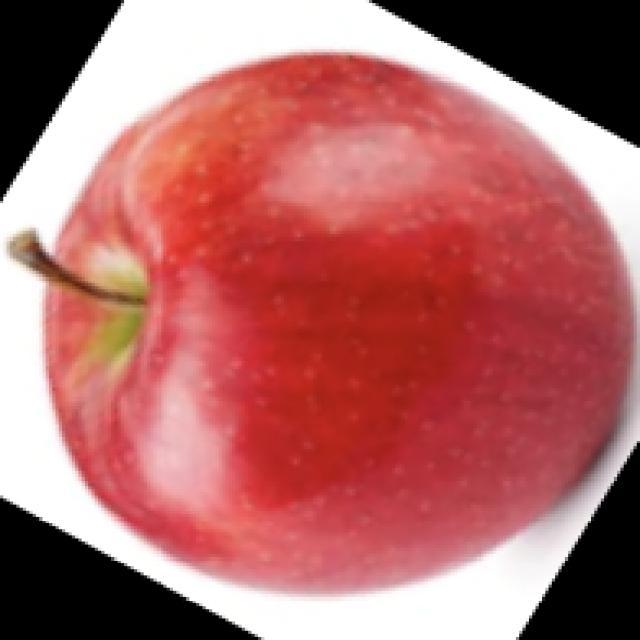Fresh Apple: (26, 88, 640, 634)
